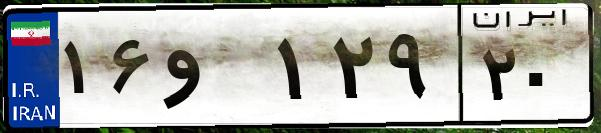0: (525, 38, 570, 115)
1: (270, 28, 330, 110), (57, 26, 110, 100)
2: (330, 28, 385, 110), (475, 38, 525, 113)
6: (110, 28, 158, 98)
9: (385, 28, 445, 110)
و: (158, 20, 270, 120)
